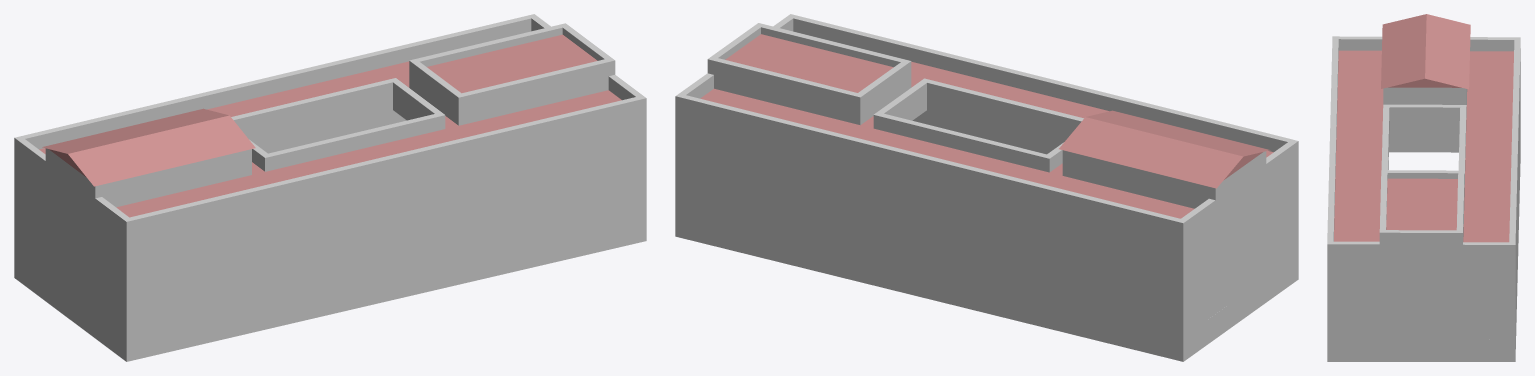
The model's file is LOD_Block_0_20.glb.
The picture shows the model from 3 angles, left to right: view 1: azimuth 30°, elevation 25°; view 2: azimuth 150°, elevation 25°; view 3: azimuth 270°, elevation 25°; orthographic projection. The views are drawn at different scales.
Parts seen in each view (by area): view 1: mesh_CityEngineMaterial_304; view 2: mesh_CityEngineMaterial_304; view 3: mesh_CityEngineMaterial_304.
Part boxes in pixels (bbox=[...]): mesh_CityEngineMaterial_304: bbox=[14, 14, 646, 361]; mesh_CityEngineMaterial_304: bbox=[675, 14, 1298, 361]; mesh_CityEngineMaterial_304: bbox=[1327, 14, 1520, 361].
Size of the model in its own units: 39.31 by 12.21 by 15.35.
